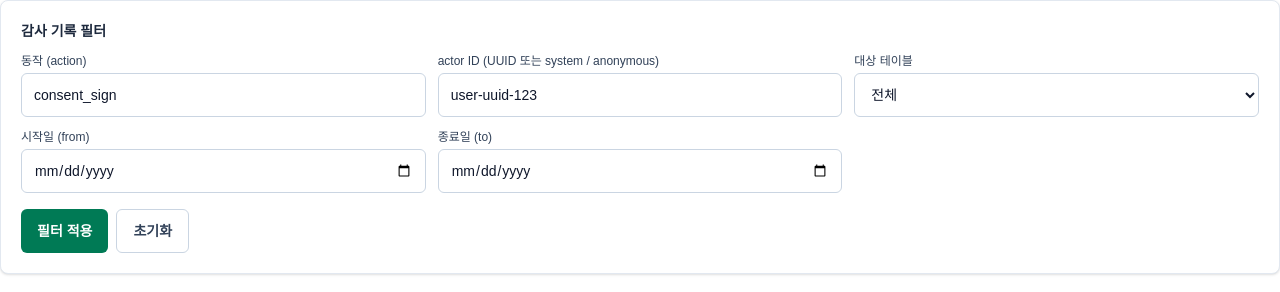
it: AuditLogFilter — DB-011 audit 필터 form › [3] 초기화 클릭 → state 빈 값 + router.push('/admin/audit')
Click the button with test id "audit-filter-reset" at {"x": 153, "y": 231}, box [116,209,189,253]
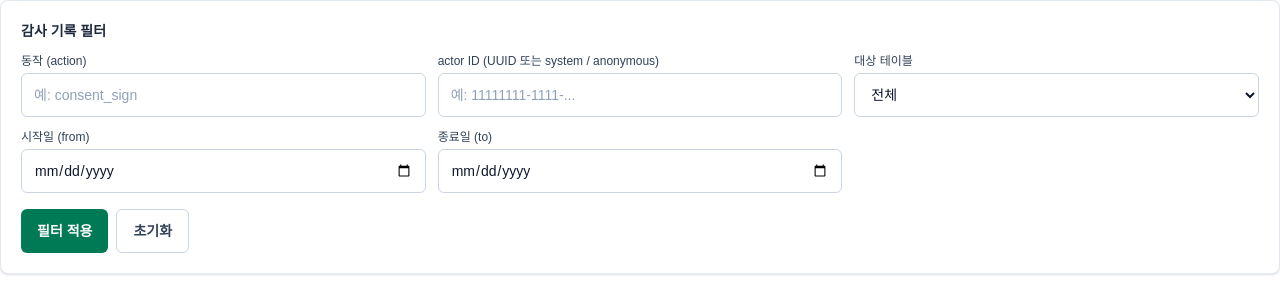
Expected: the field with test id "audit-filter-action" is empty, [21,73,426,117]
Expected: the field with test id "audit-filter-actor-id" is empty, [438,73,842,117]
